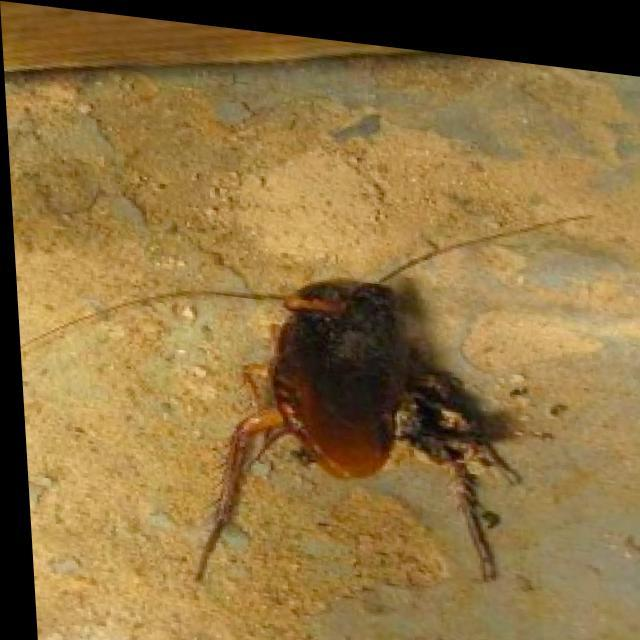cockroach: (267, 276, 417, 482)
